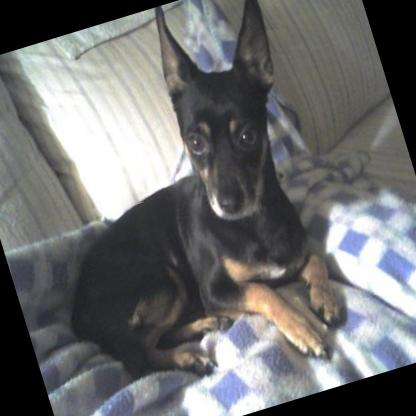miniature_pinscher: (0, 0, 370, 416)
